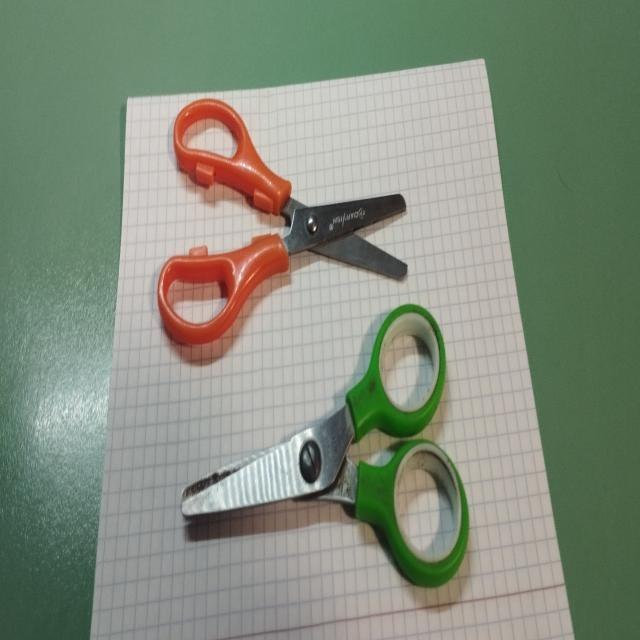tesoura: (168, 258, 487, 606), (147, 75, 421, 366)
